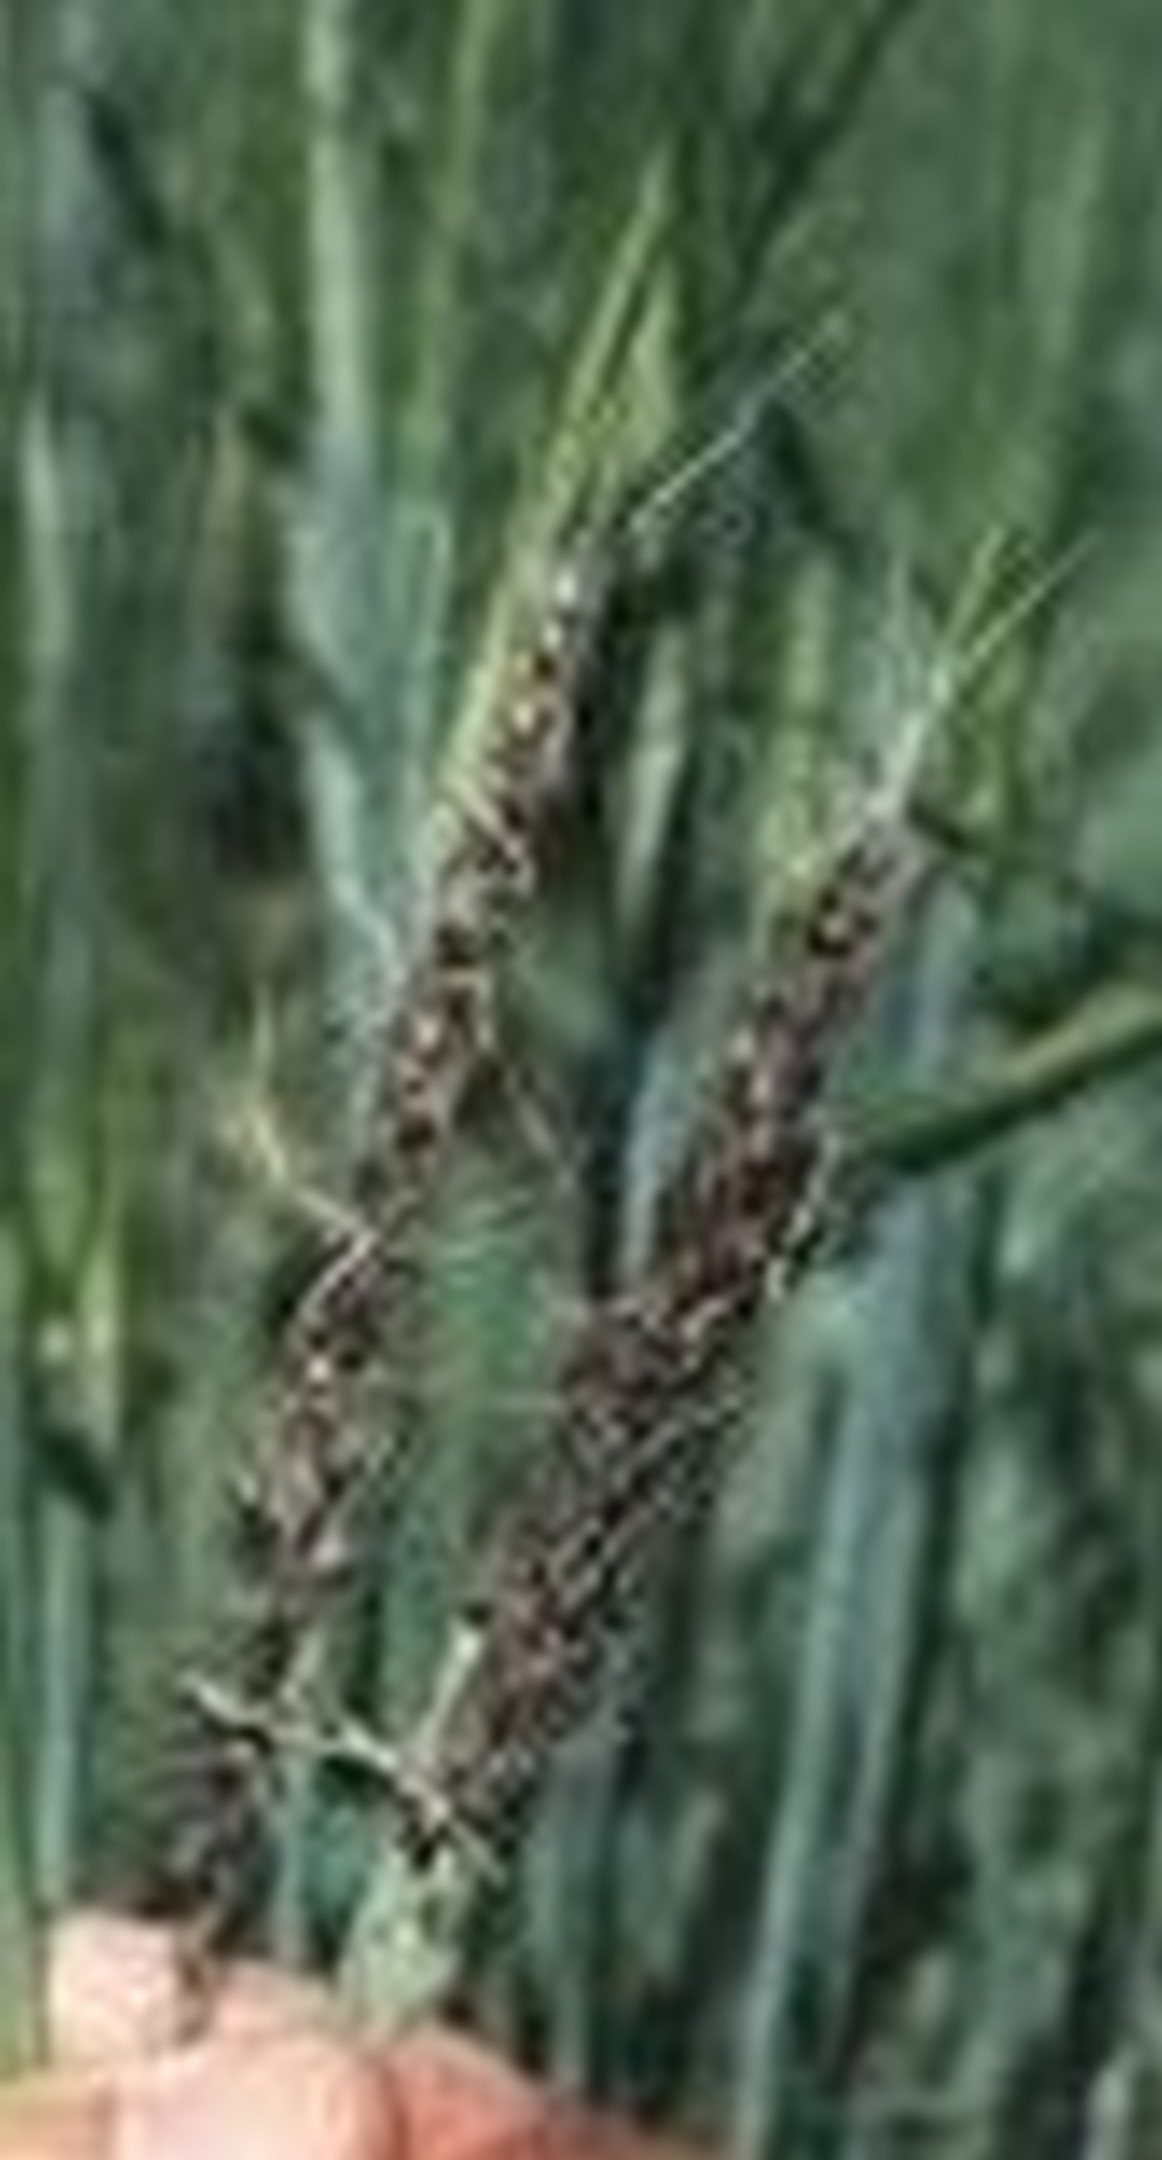Wheat Loose Smut: (150, 742, 922, 1861)
